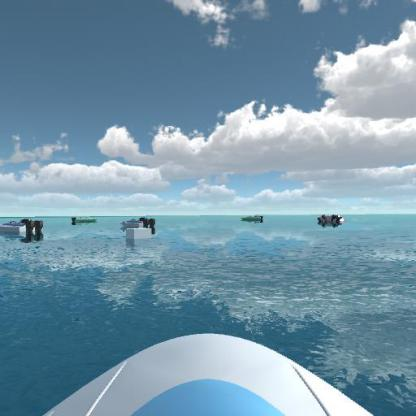usv0: (68, 212, 99, 226), (239, 211, 268, 225)
usv1: (0, 213, 47, 244), (114, 214, 162, 231), (330, 212, 348, 229)
usv3: (316, 207, 335, 231)
